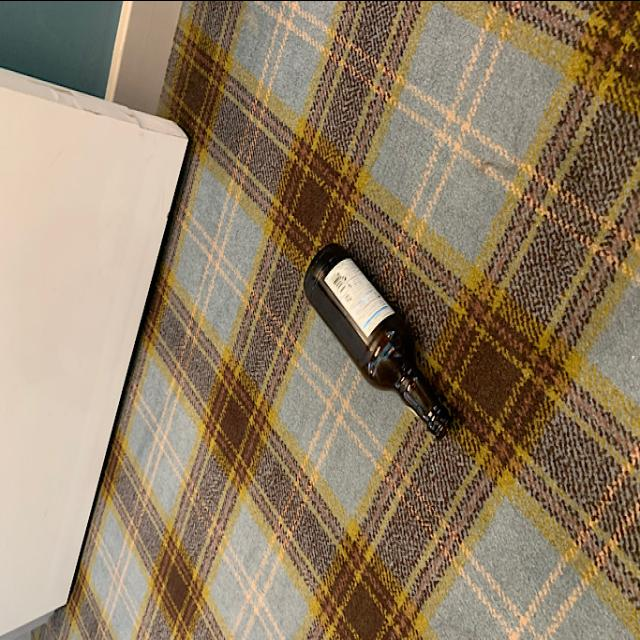Glass Bottle: (301, 242, 461, 448)
